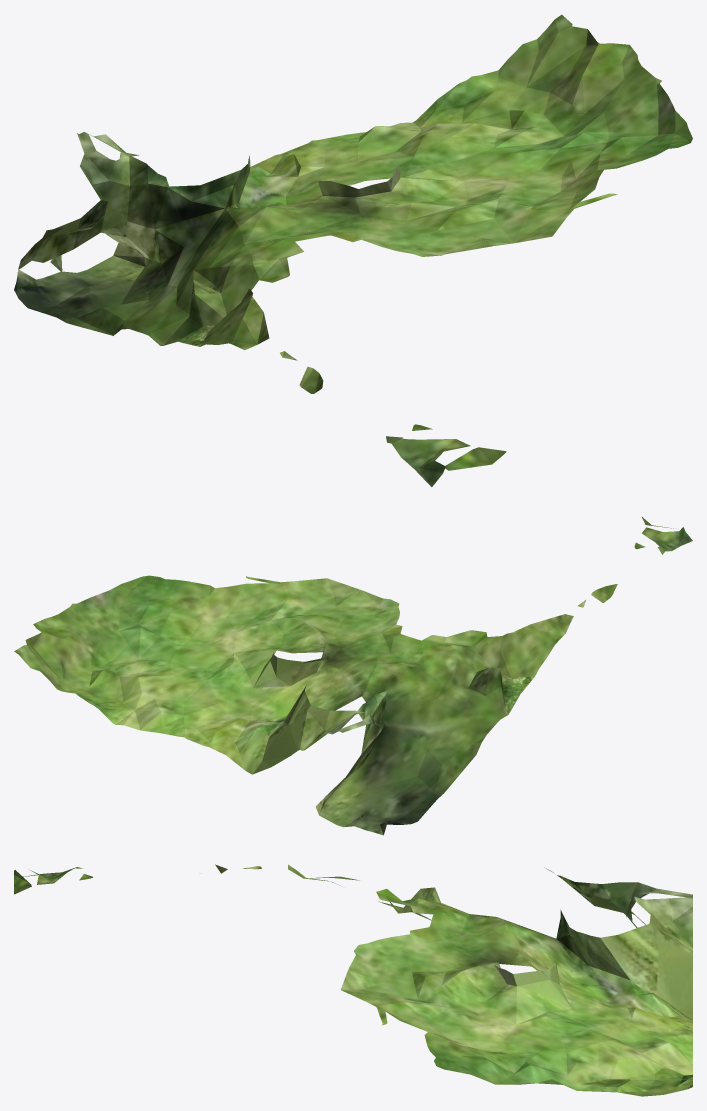
The picture shows the model from 3 angles, top to bottom: view 1: azimuth 30°, elevation 25°; view 2: azimuth 150°, elevation 25°; view 3: azimuth 270°, elevation 25°; orthographic projection. The views are drawn at different scales.
Size of the model in its own units: 20.28 by 4.65 by 26.11.
1 material, 1 textured.
